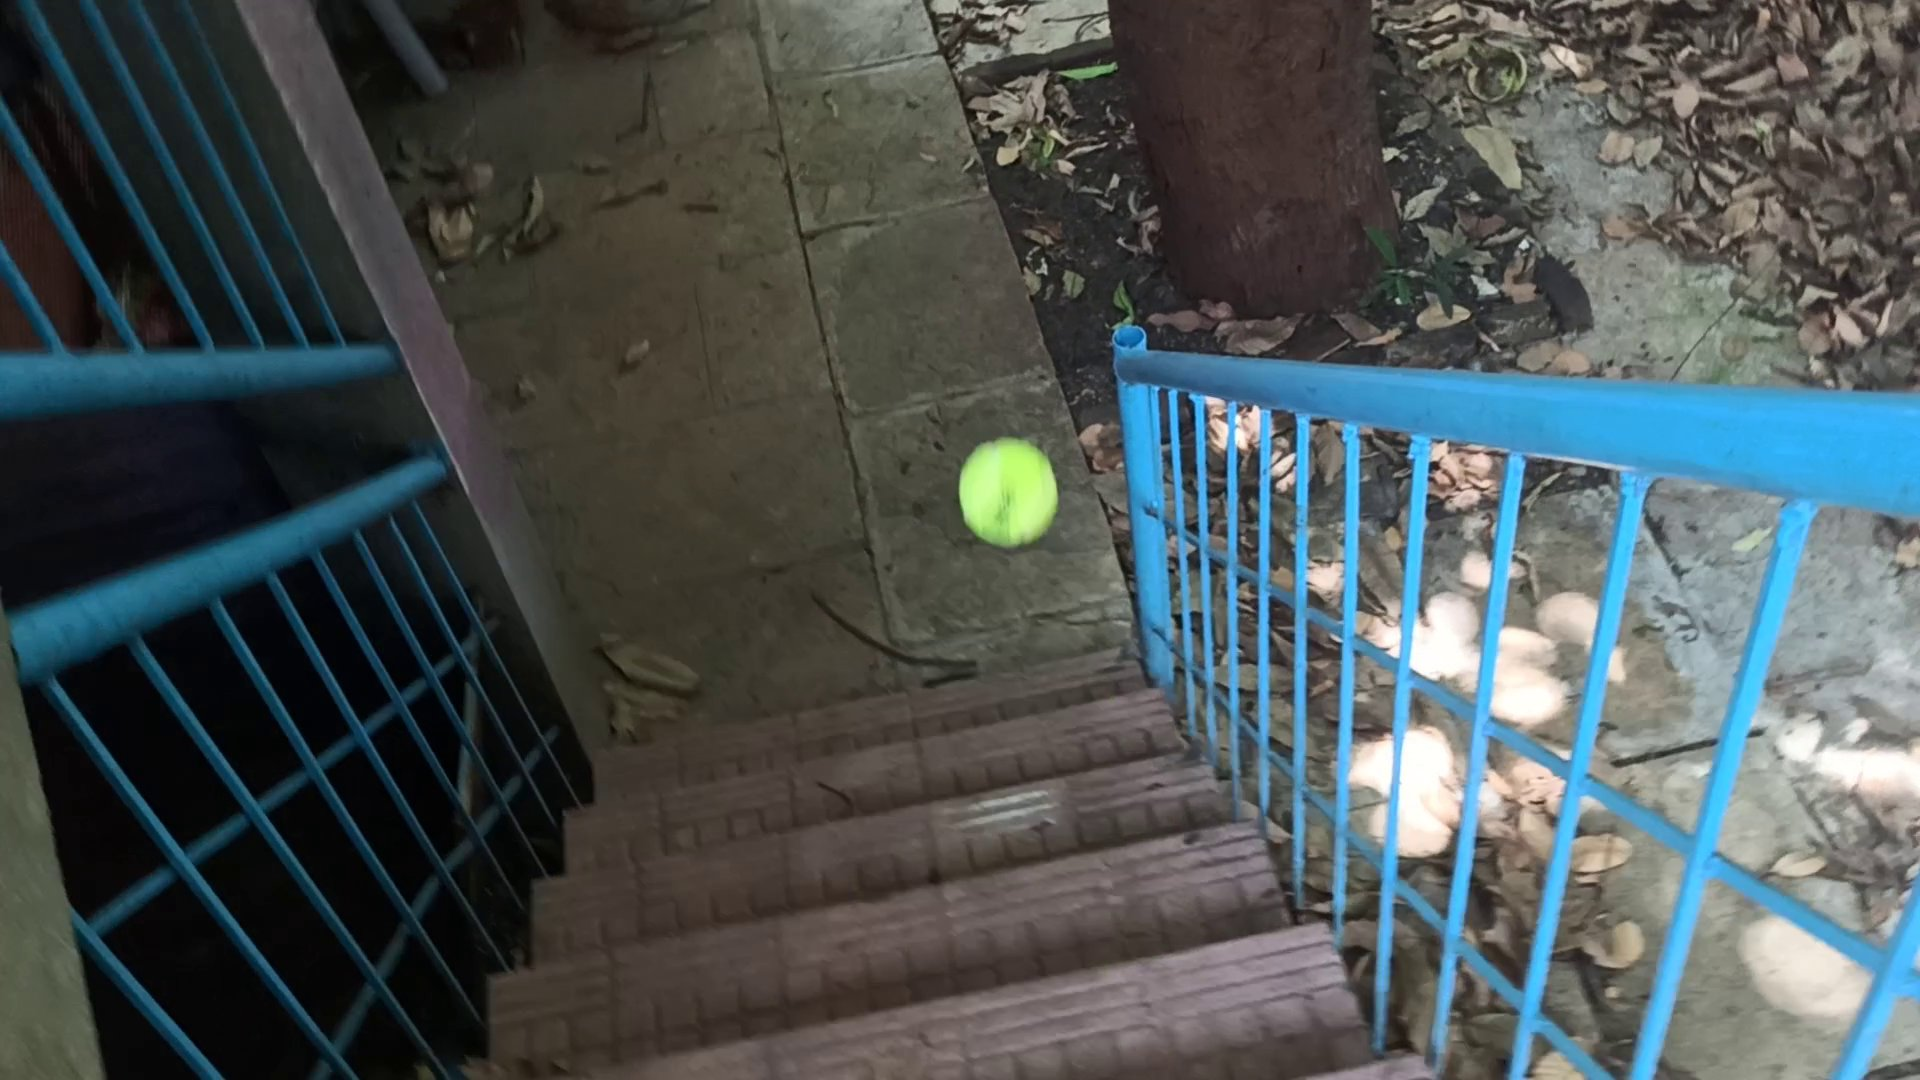Tennis-Ball: (959, 436, 1058, 547)
